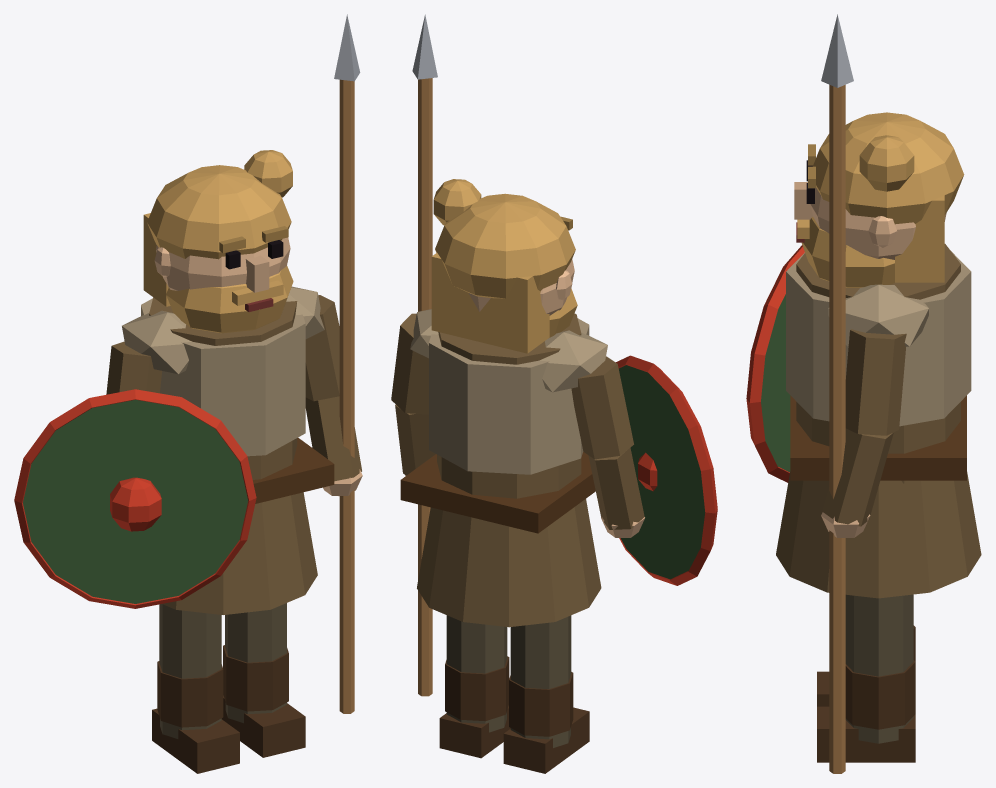
The model's file is german.glb.
The picture shows the model from 3 angles, left to right: view 1: azimuth 30°, elevation 25°; view 2: azimuth 150°, elevation 25°; view 3: azimuth 270°, elevation 25°; orthographic projection. The views are drawn at different scales.
Parts seen in each view (by area): view 1: reka_l, cialo, glowa, reka_p, noga_l, noga_p; view 2: cialo, reka_l, glowa, reka_p, noga_l, noga_p; view 3: cialo, reka_p, glowa, noga_p, reka_l, noga_l.
Boxes of the visible parts, x1,y1,x2,y2 form: reka_l: [14, 341, 256, 608]; cialo: [122, 286, 334, 614]; glowa: [143, 150, 293, 333]; reka_p: [305, 14, 362, 713]; noga_l: [152, 604, 239, 773]; noga_p: [221, 603, 305, 757]; cialo: [400, 309, 607, 627]; reka_l: [571, 355, 717, 585]; glowa: [431, 179, 577, 353]; reka_p: [391, 14, 437, 696]; noga_l: [503, 615, 589, 773]; noga_p: [439, 615, 510, 758]; cialo: [776, 244, 981, 598]; reka_p: [821, 14, 906, 773]; glowa: [794, 112, 964, 287]; noga_p: [817, 594, 915, 762]; reka_l: [746, 245, 804, 482]; noga_l: [817, 625, 915, 706].
Bounding box in the file's own units: 1.01 × 2.08 × 0.5714.
